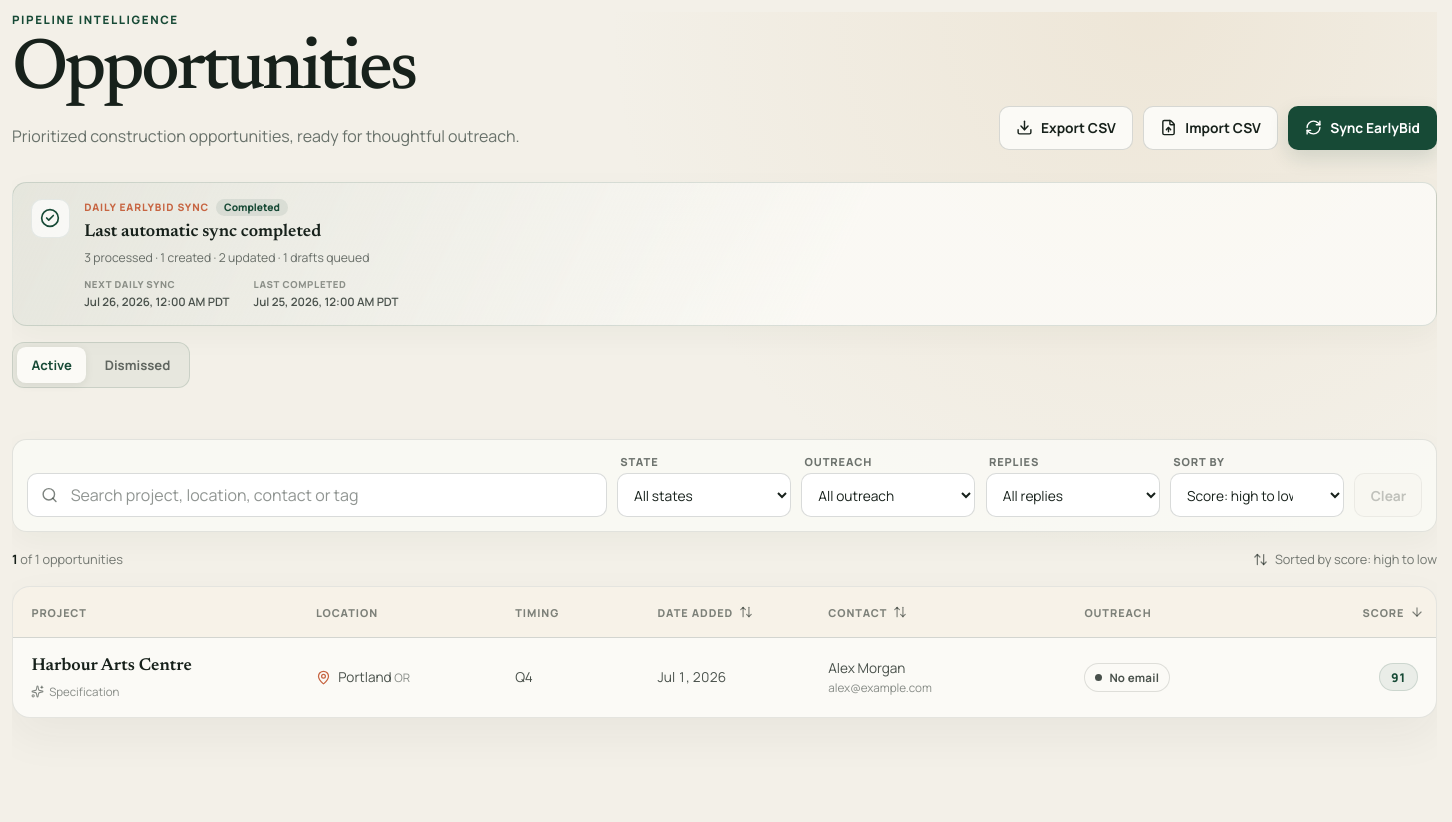
Test case: Opportunities list › switches to the read-only dismissed feed view without local delete controls
The width and height of the screenshot is (1452, 822).
Expected: the table is shown, [13,587,1436,717]
What coordinates should you click on to do the following:
click the button "Dismissed"
I would click on:
 (138, 365)
Its box is [90,347,185,383].
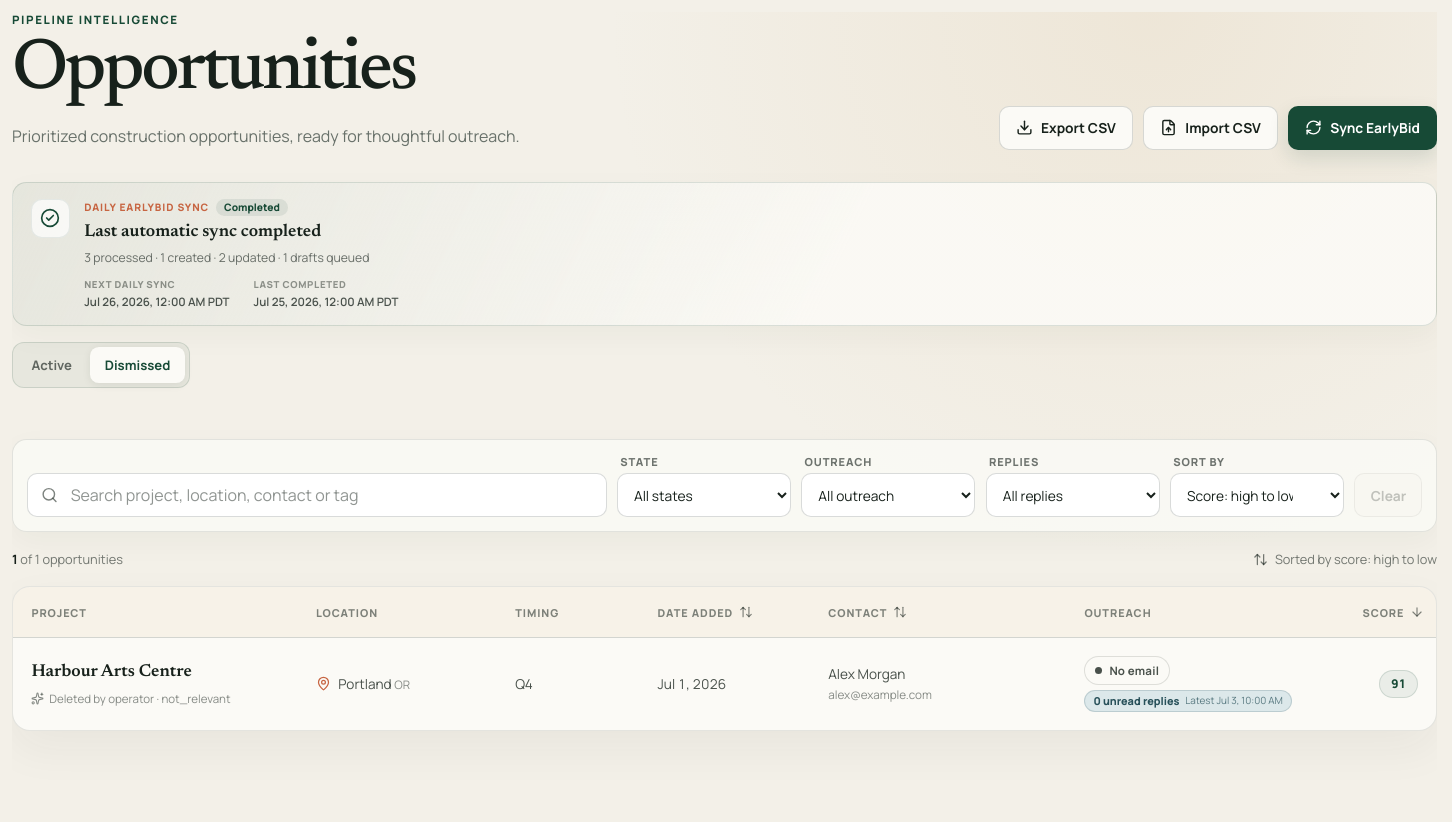
Now the text "Deleted by operator · not_relevant" is shown, box [31,691,231,706]
Now the text "0 unread replies" is shown, box [1093,696,1180,706]
